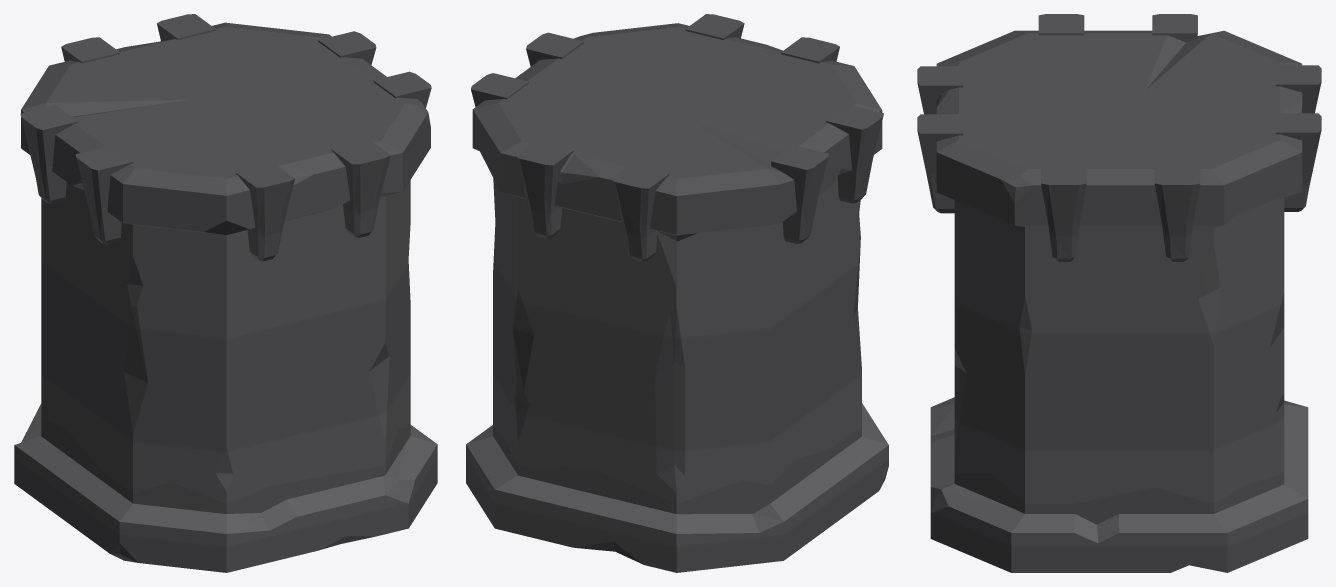
Rendered from SM_Bld_Castle_Tower_01_Lite.gltf.
3 renders of one model, left to right at view 1: azimuth 30°, elevation 25°; view 2: azimuth 150°, elevation 25°; view 3: azimuth 270°, elevation 25°, orthographic. The views are drawn at different scales.
Parts seen in each view (by area): view 1: SM_Bld_Castle_Tower_01_Lite; view 2: SM_Bld_Castle_Tower_01_Lite; view 3: SM_Bld_Castle_Tower_01_Lite.
Part boxes in pixels (bbox=[...]): SM_Bld_Castle_Tower_01_Lite: bbox=[14, 14, 437, 572]; SM_Bld_Castle_Tower_01_Lite: bbox=[466, 14, 888, 572]; SM_Bld_Castle_Tower_01_Lite: bbox=[917, 14, 1321, 572].
Size of the model in its own units: 2.78 by 3.04 by 2.78.
Materials: 1 (1 with a texture image).
